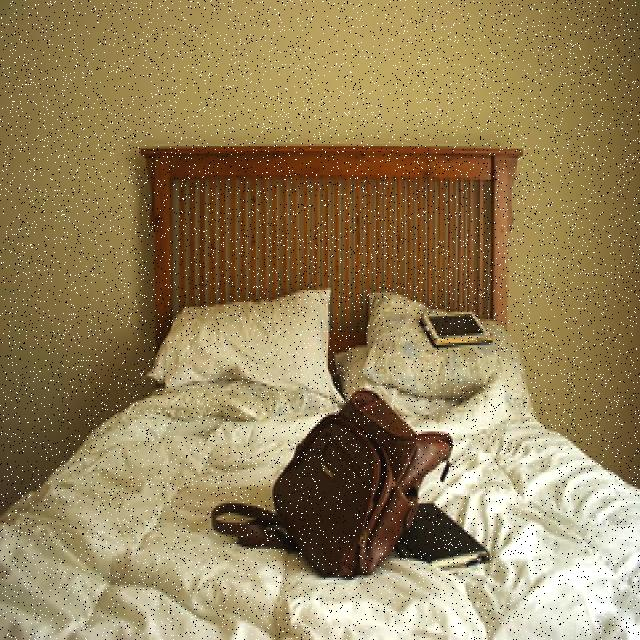bed: (25, 282, 572, 623)
